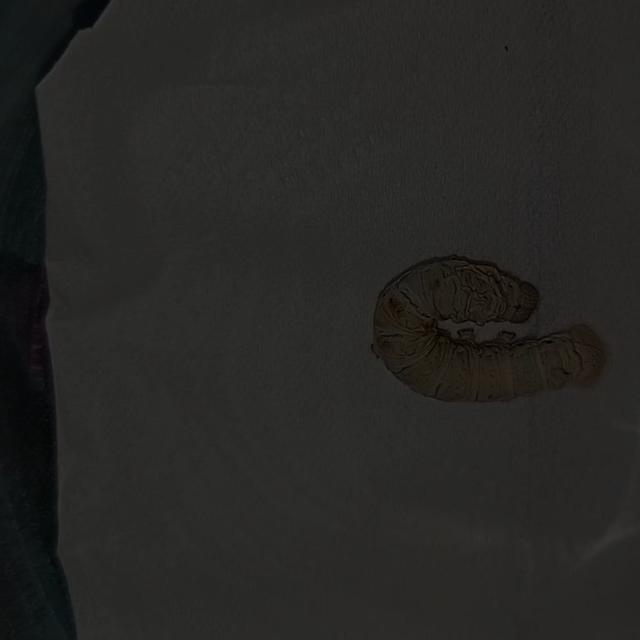Healthy: (345, 222, 624, 432)
